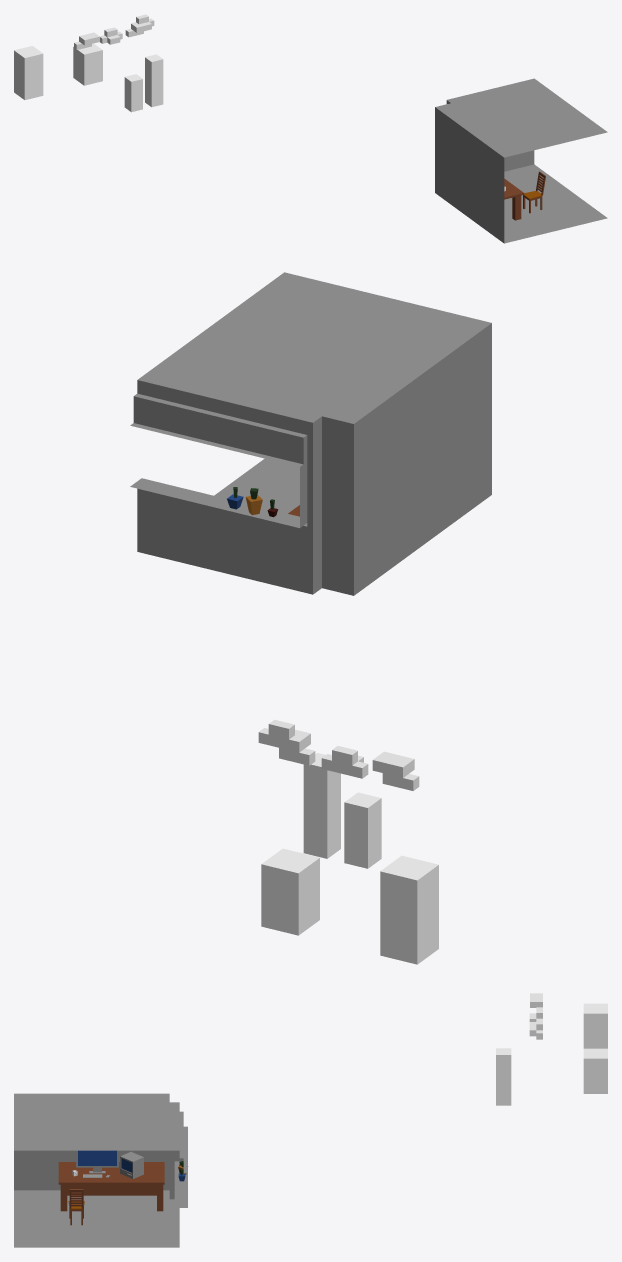
Rendered from Shelby_Room_v2.fbx.
3 renders of one model, top to bottom at view 1: azimuth 30°, elevation 25°; view 2: azimuth 150°, elevation 25°; view 3: azimuth 270°, elevation 25°, orthographic. The views are drawn at different scales.
Parts seen in each view (by area): view 1: geo_grp_room, geo_grp_buildings, clouds_geo_grp, geo_grp_desk, chair; view 2: geo_grp_room, geo_grp_buildings, clouds_geo_grp; view 3: geo_grp_room, geo_grp_buildings, geo_grp_desk, geo_grp_monitor, clouds_geo_grp, geo_grp_small_monitor, chair.
Part boxes in pixels (x1,y1,x2,y2): geo_grp_room: (435, 78, 607, 243); geo_grp_buildings: (14, 43, 163, 112); clouds_geo_grp: (74, 14, 154, 49); geo_grp_desk: (504, 178, 524, 220); chair: (523, 171, 545, 213); geo_grp_room: (130, 272, 491, 595); geo_grp_buildings: (261, 753, 438, 964); clouds_geo_grp: (258, 719, 419, 790); geo_grp_room: (14, 1093, 187, 1247); geo_grp_buildings: (496, 1003, 607, 1105); geo_grp_desk: (58, 1162, 164, 1211); geo_grp_monitor: (76, 1150, 118, 1177); clouds_geo_grp: (529, 993, 542, 1039); geo_grp_small_monitor: (120, 1152, 143, 1178); chair: (68, 1189, 84, 1225).
Bounding box in the file's own units: 64.89 × 16.41 × 89.75.
